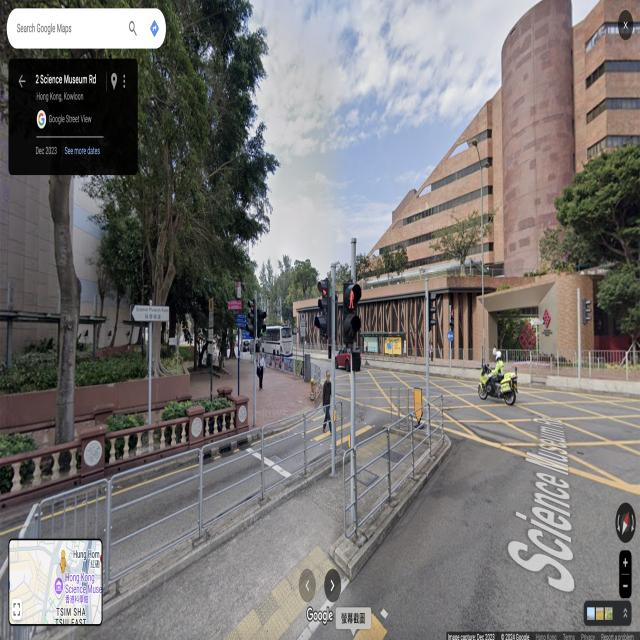Order-Sign: (208, 298, 214, 327), (447, 331, 453, 342), (208, 329, 213, 341), (301, 313, 305, 326), (301, 328, 305, 336)
Street-Direction-Sign: (131, 305, 169, 321), (294, 327, 298, 333)
